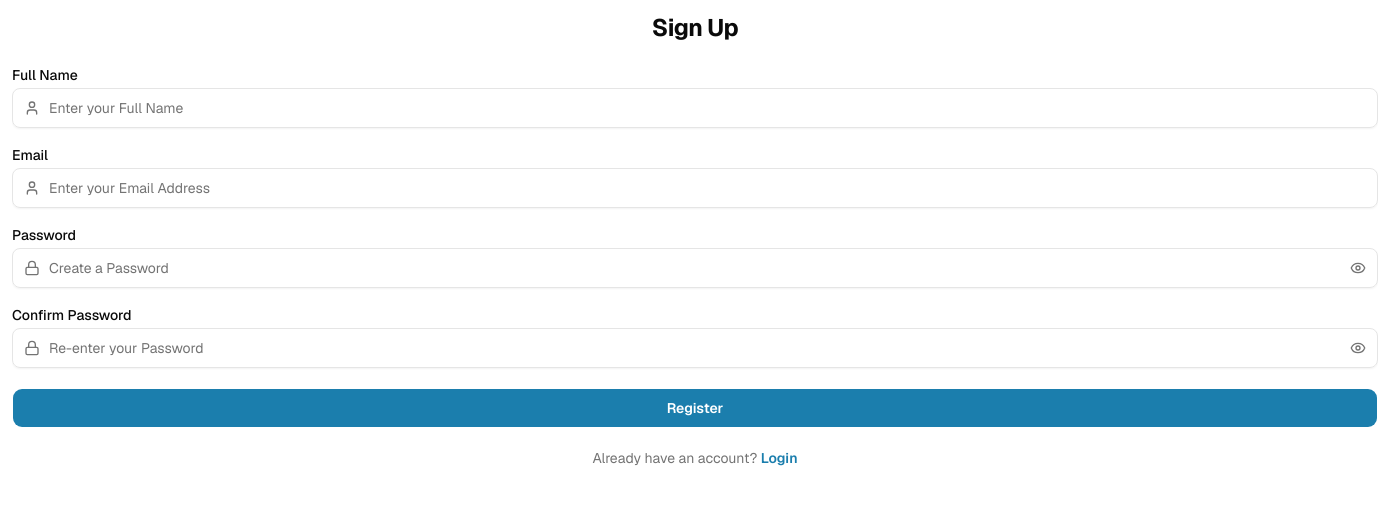
Test case: RegisterForm › should show password mismatch error
In the field labelled "Full Name": (695, 108) [12,88,1378,128], type "Test"
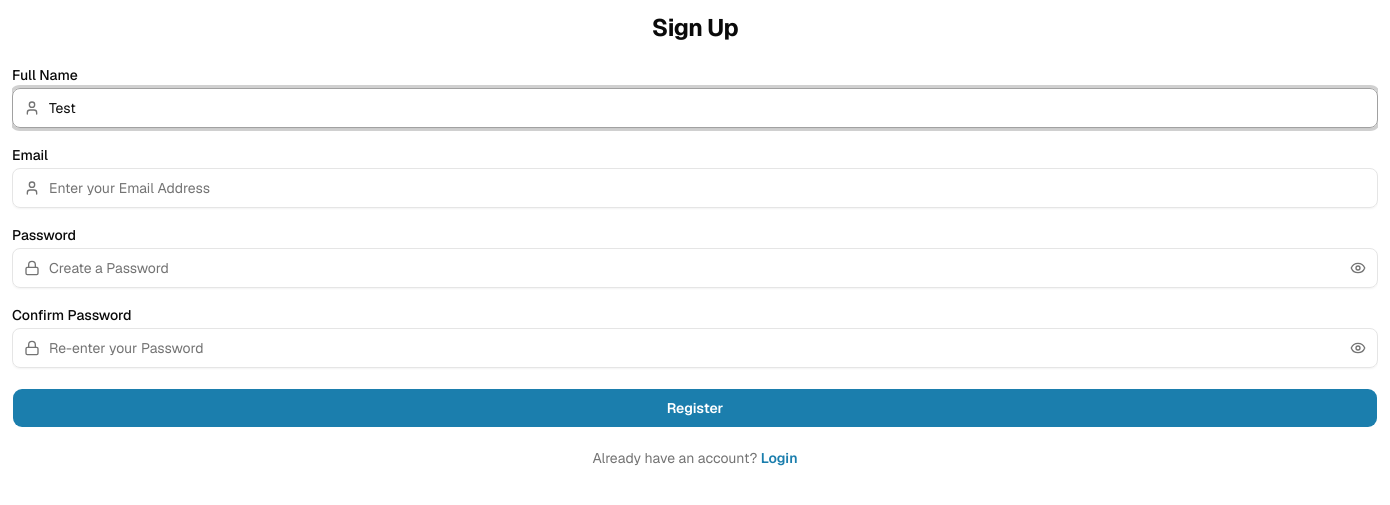
In the field labelled "Email": (695, 188) [12,168,1378,208], type "a@b.com"
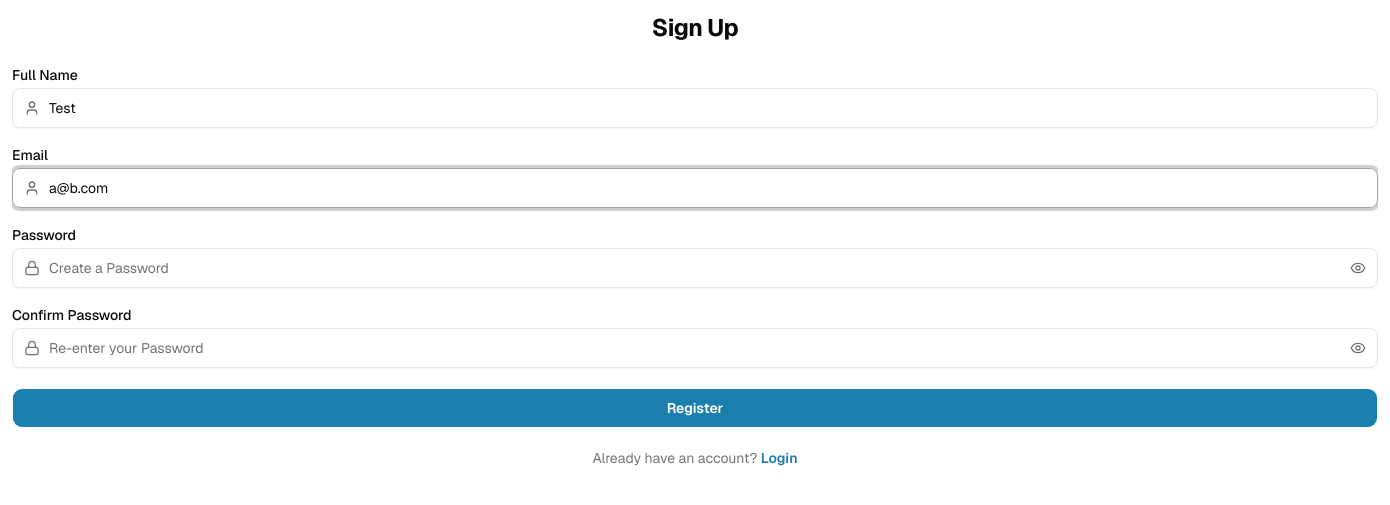
In the password field labelled "Password": (695, 268) [12,248,1378,288], type "TestPass123"
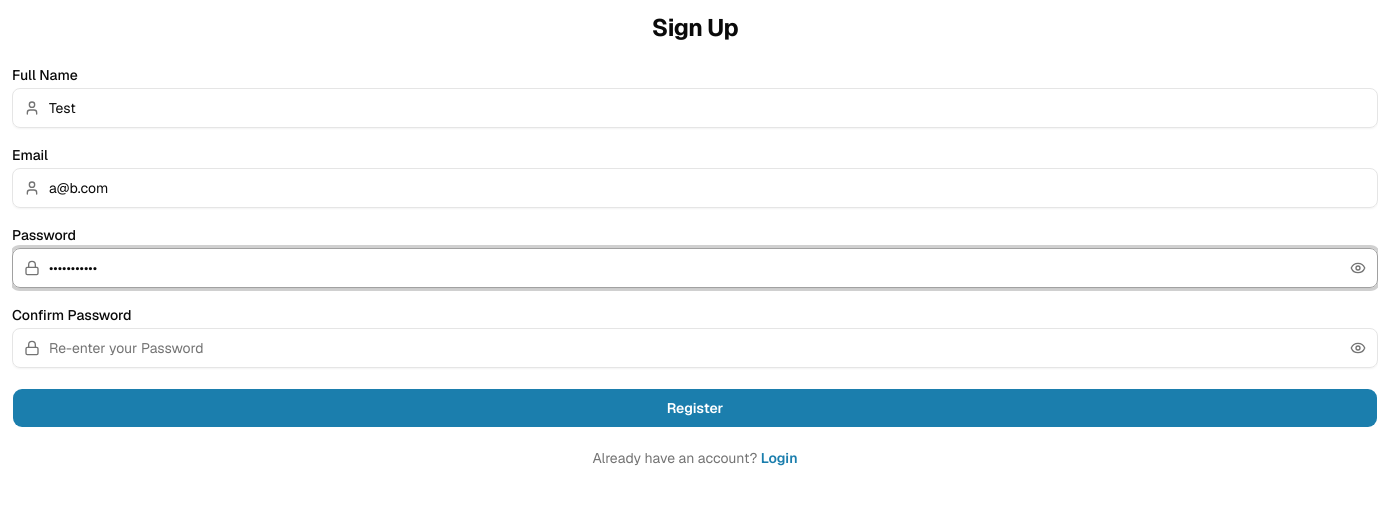
In the password field labelled "Confirm Password": (695, 348) [12,328,1378,368], type "DifferentPass123"
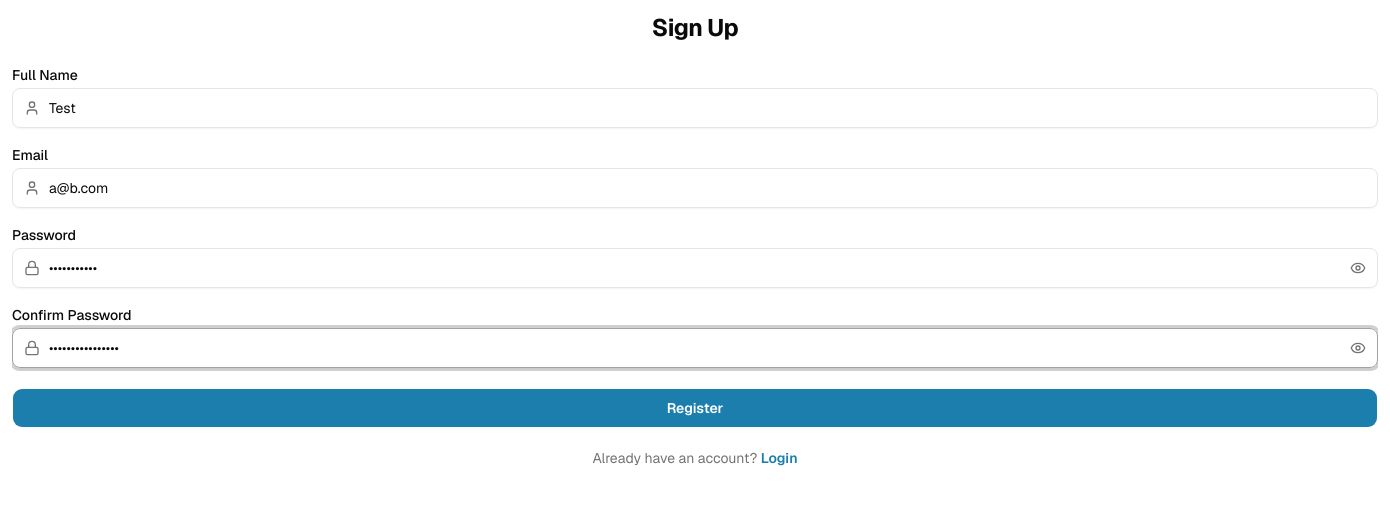
Click the button "Register": (695, 408) [12,388,1378,428]
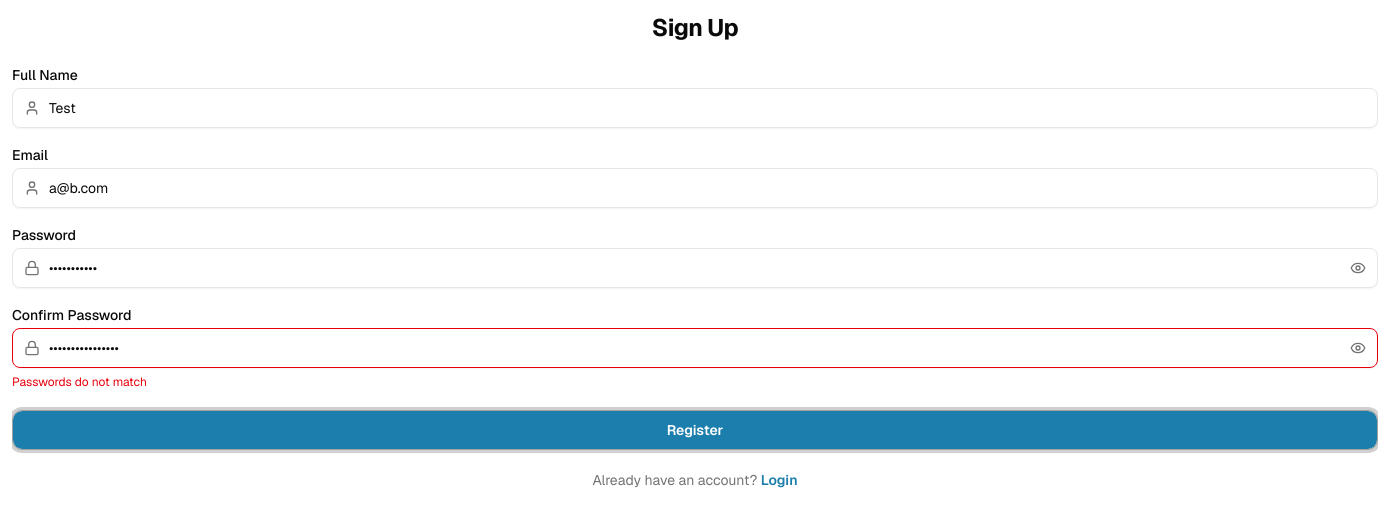
Now the text "Passwords do not match" is shown, box [12,374,147,390]
